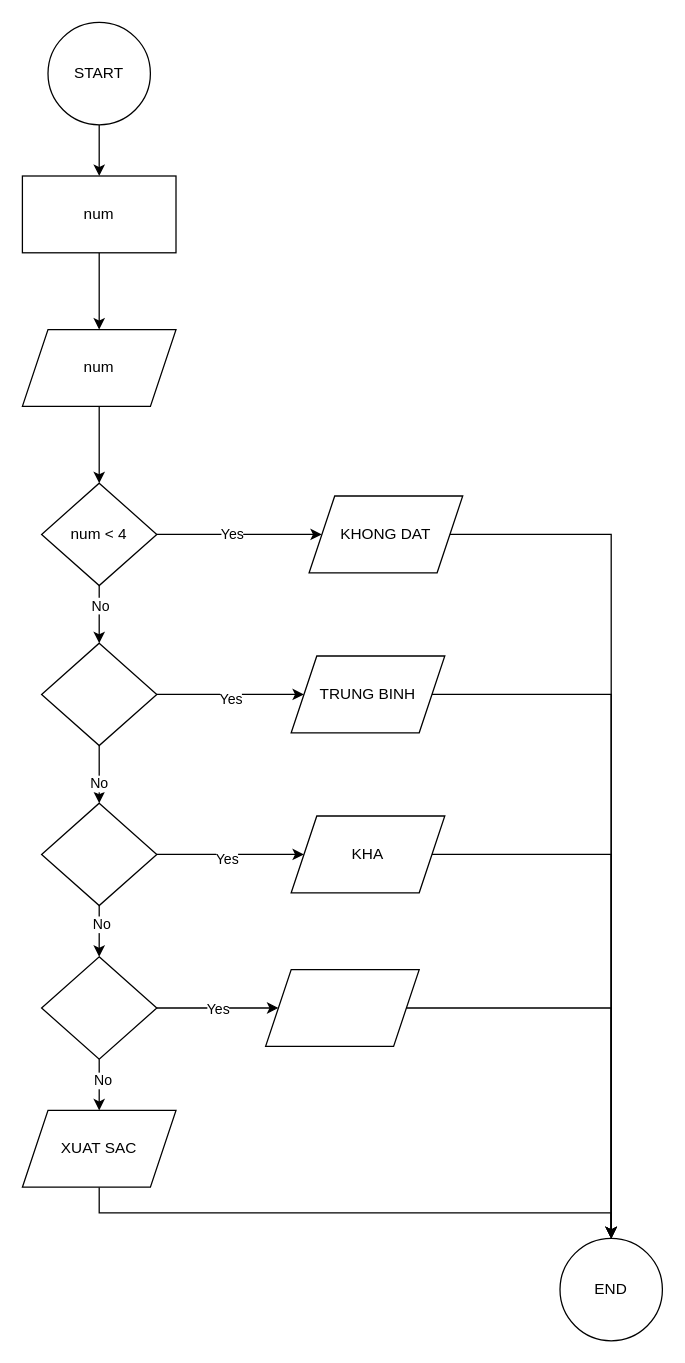
The diagram is 685 pixels wide and 1363 high, and some of its shapes have lost their labels. The shapes that lost their labels are listed below. From the top down, each one's centre as x and y in pixels, then its label:
the point at 98,694: num <= 6
the point at 98,854: num <= 8
the point at 98,1007: num <=9
the point at 341,1007: GIOI
